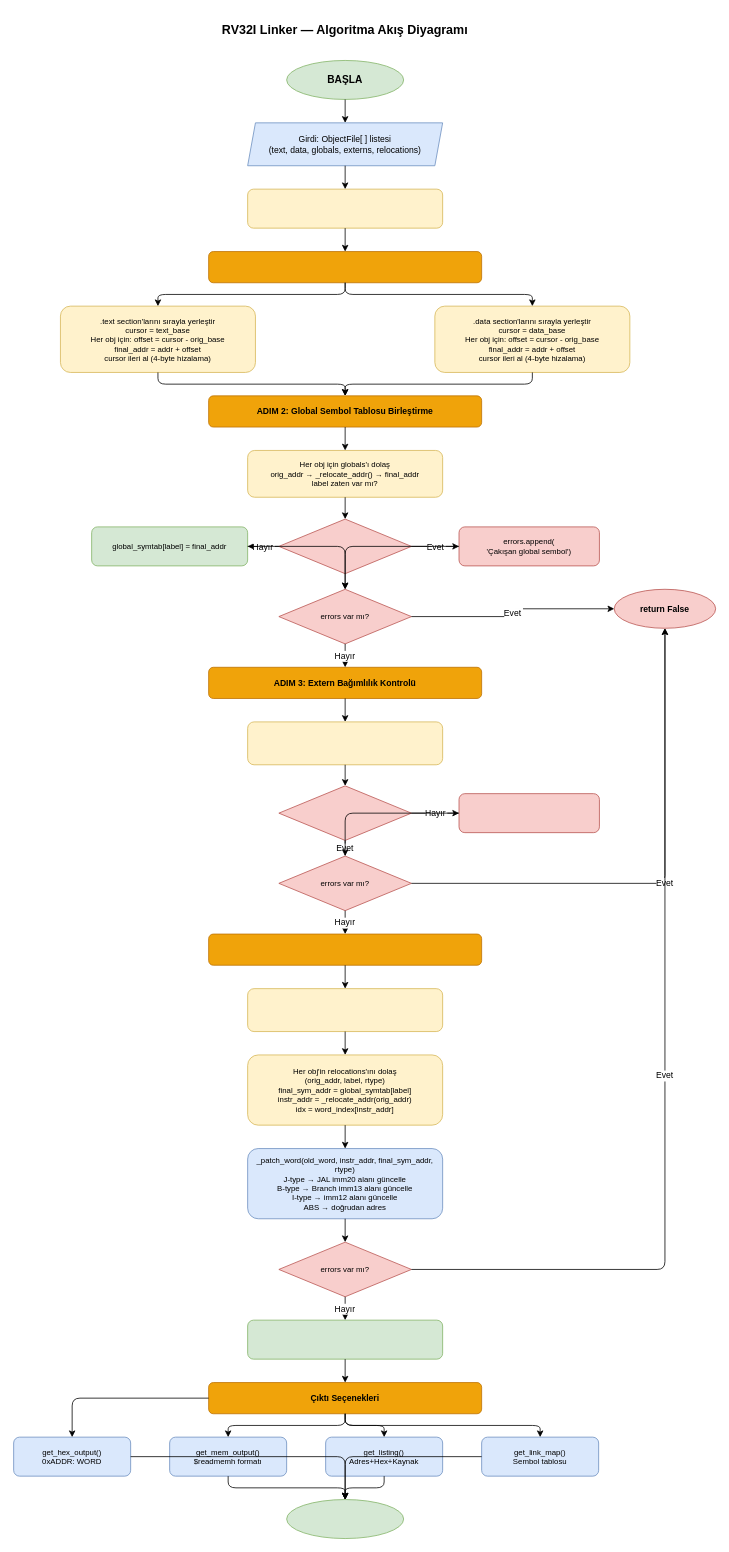
This 729x1552 diagram has some shape labels left out. Each missing label, with the centre of its shape:
"_reset() errors=[], linked_code=[], global_symtab={}, link_map=[]" belongs at point (345, 208).
"ADIM 1: Section Yerleştirme (_layout_section)" belongs at point (345, 267).
"ADIM 4: Relocation (Komut Yaması)" belongs at point (345, 949).
"all_words = text_words + data_words word_index = {addr: index} haritası kur" belongs at point (345, 1010).
"BİTİŞ" belongs at point (345, 1519).
"errors.append( 'Çözümlenemeyen extern')" belongs at point (528, 813).
"Her obj'in externs listesini dolaş Her sembol global_symtab'da var mı?" belongs at point (345, 743).
"linked_code = all_words return True" belongs at point (345, 1339).
"Sembol bulundu mu?" belongs at point (344, 812).
"Çakışan sembol?" belongs at point (344, 546).
